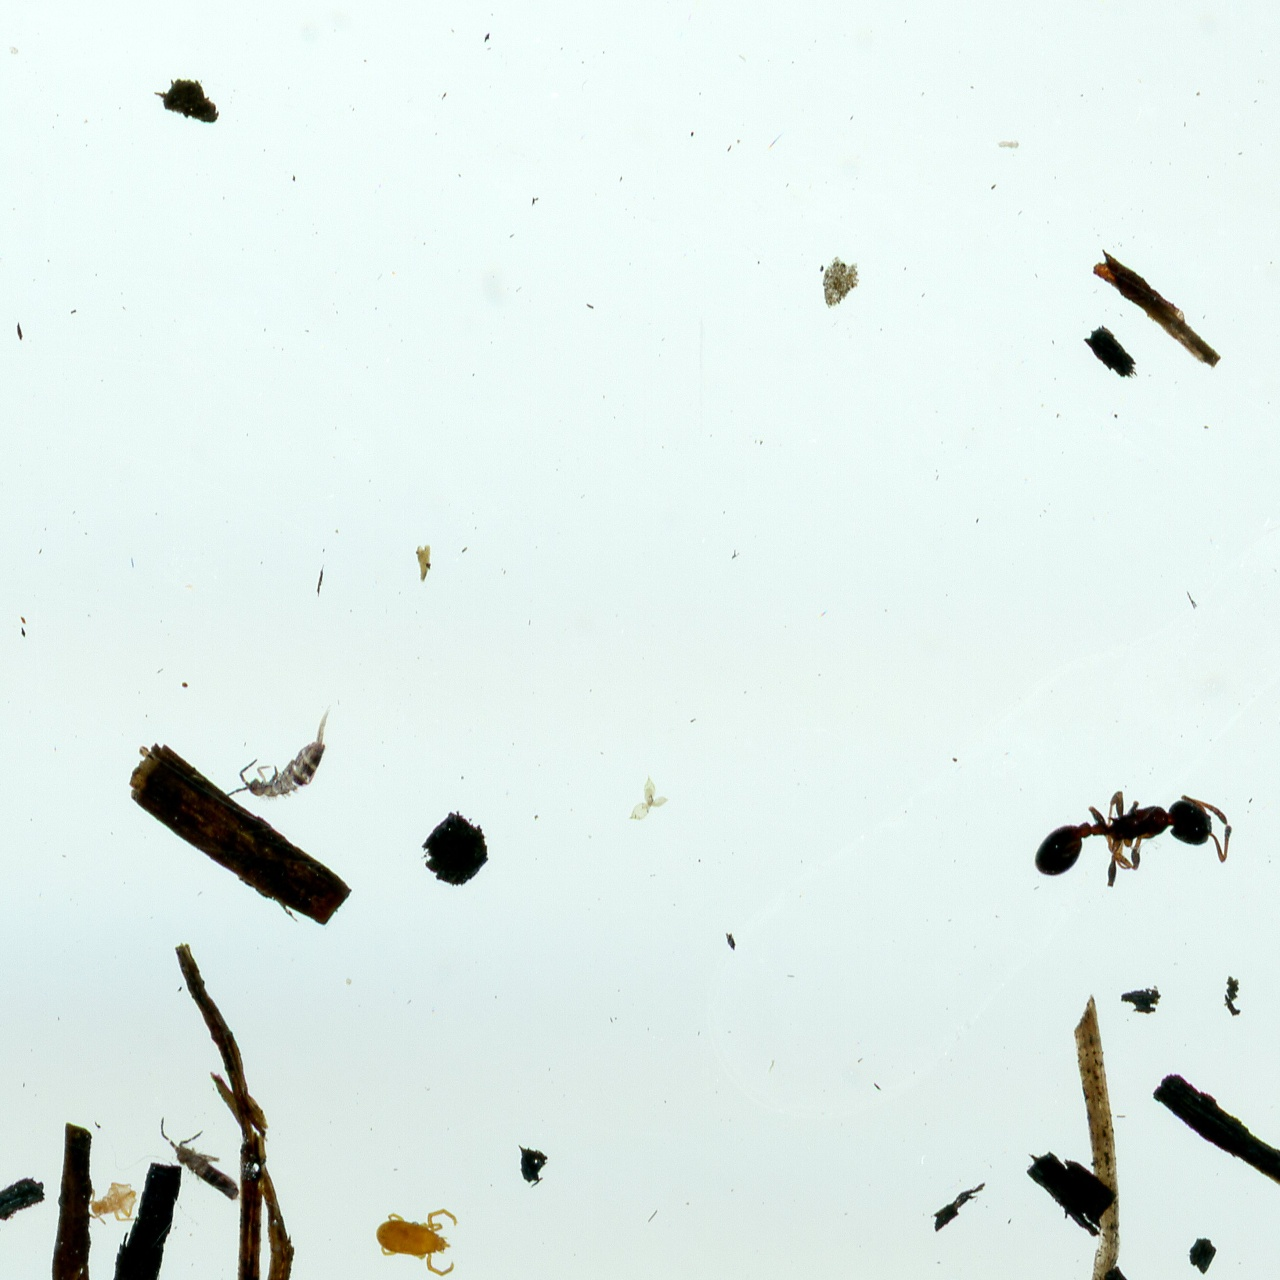arthropod: (1031, 785, 1234, 889), (208, 698, 351, 813), (144, 1099, 260, 1220), (30, 1244, 225, 1280), (372, 1206, 459, 1280), (87, 1179, 141, 1226)
